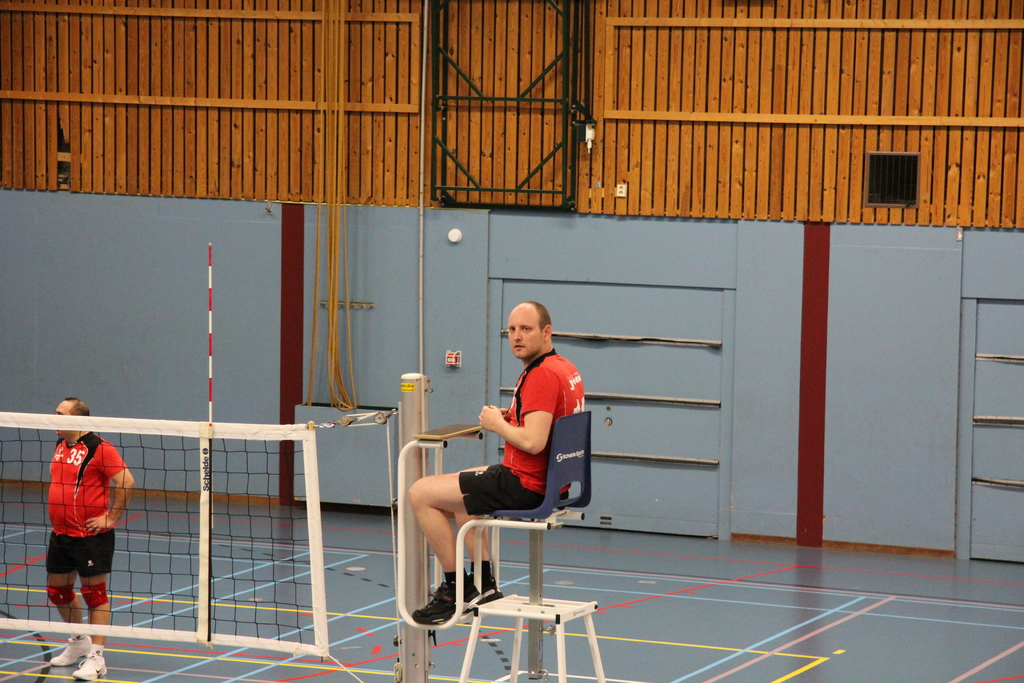Person: (408, 300, 585, 624), (46, 397, 134, 680)
